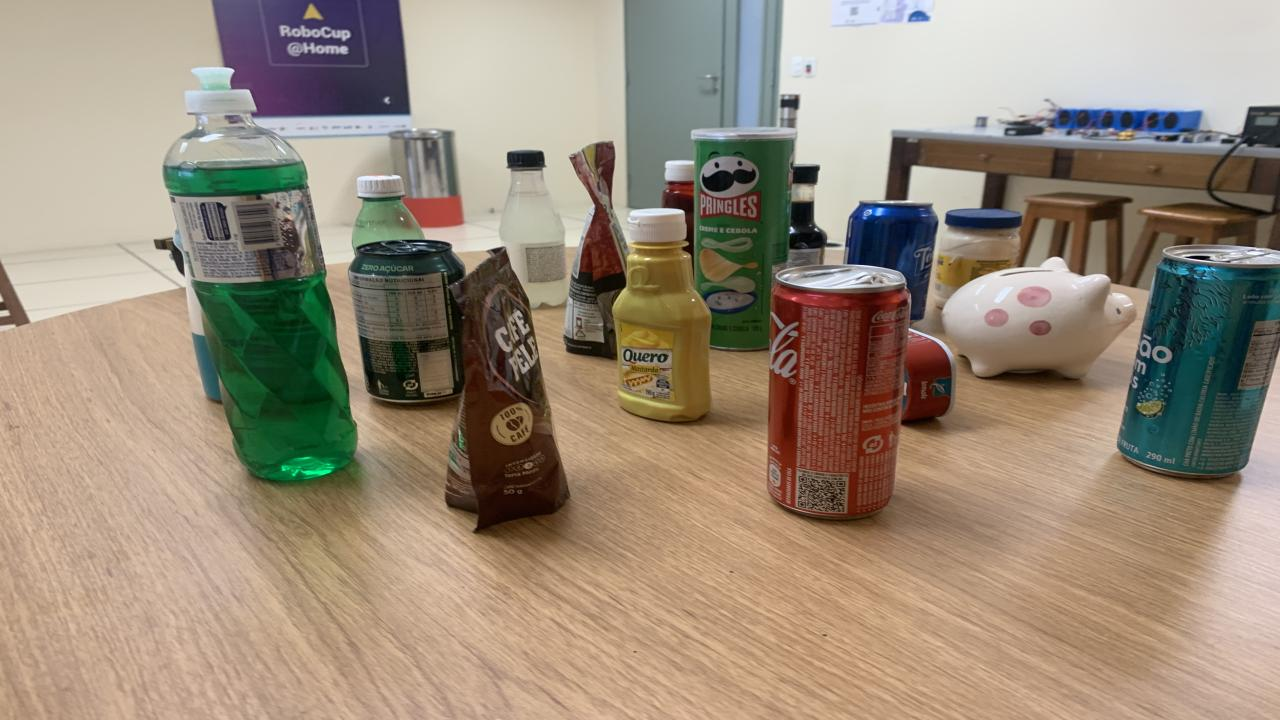Cleaner-Cleanup_Items: (185, 266, 222, 401)
Coffee-Pantry_Items: (445, 248, 570, 529)
Coke-Drinks: (768, 266, 910, 519)
Detergent-Cleanup_Items: (162, 68, 358, 482)
English_Sauce-Pantry_Items: (788, 165, 828, 266)
Guarana-Drinks: (352, 174, 425, 249)
Guarana_Can-Drinks: (348, 240, 465, 403)
Ketchup-Pantry_Items: (660, 159, 695, 255)
Mayonnaise-Pantry_Items: (935, 208, 1022, 308)
Mustard-Pantry_Items: (612, 208, 710, 422)
Pig_Safe-Miscellaneous: (942, 257, 1138, 379)
Pringles-Snacks: (692, 128, 795, 351)
Soda-Drinks: (500, 152, 568, 308)
Tea-Drinks: (1118, 246, 1280, 478)
Tomato_Sauce-Pantry_Items: (565, 142, 628, 358)
Tonic-Drinks: (845, 201, 938, 321)
Tuna_Can-Pantry_Items: (902, 328, 955, 420)
